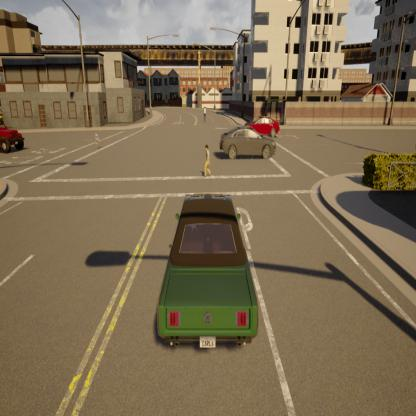Cars: (157, 195, 258, 349), (220, 127, 276, 162), (245, 116, 281, 139), (0, 119, 24, 153), (203, 104, 207, 121)
Pedestrian: (203, 143, 212, 180), (95, 131, 100, 149)
